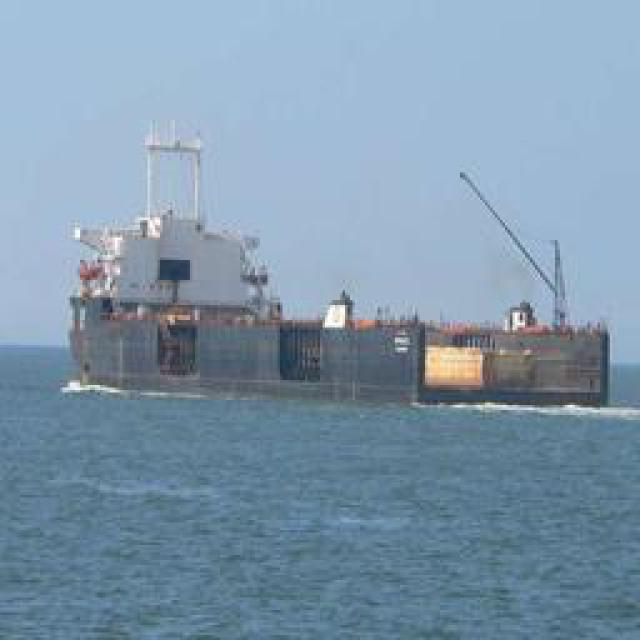Ship: (66, 121, 386, 401)
